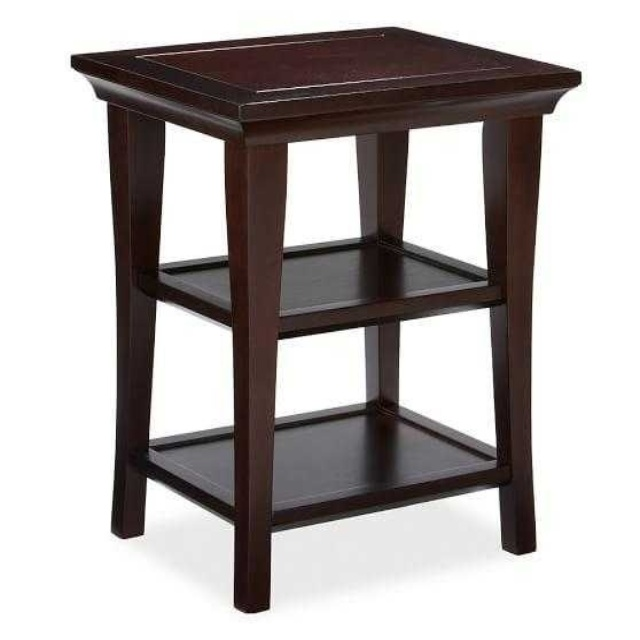obstacle: (72, 27, 580, 611)
